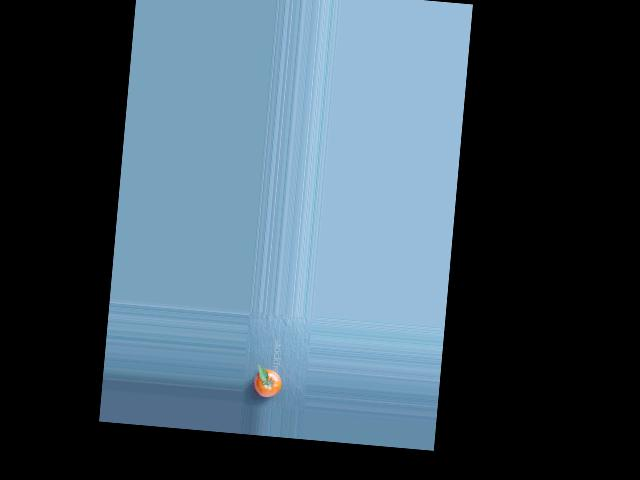tomato: (253, 368, 282, 398)
